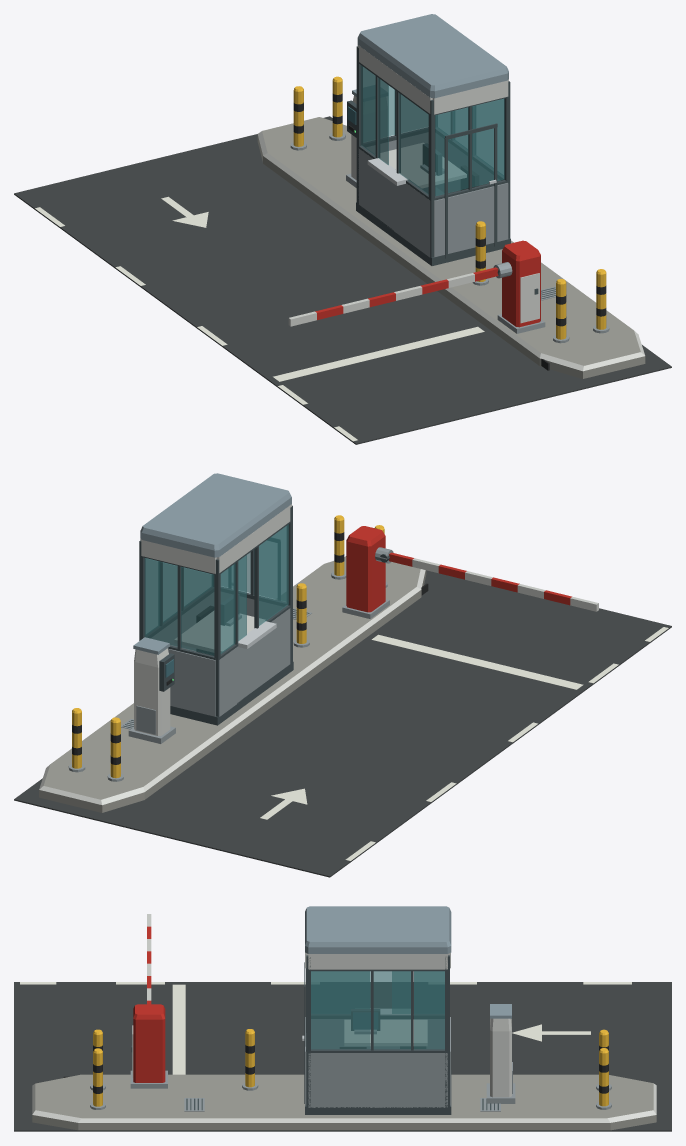
File: sg-checkpoint-lane.glb
The picture shows the model from 3 angles, top to bottom: view 1: azimuth 30°, elevation 25°; view 2: azimuth 150°, elevation 25°; view 3: azimuth 270°, elevation 25°; orthographic projection. The views are drawn at different scales.
Parts seen in each view (by area): view 1: lane_deck, booth_shell, booth_island, booth_glazing, booth_frames, bollards, boom_housing, road_markings, boom_arm, booth_counter, inspection_kiosk; view 2: lane_deck, booth_shell, booth_island, booth_glazing, booth_frames, inspection_kiosk, boom_housing, bollards, road_markings, booth_counter, boom_arm; view 3: lane_deck, booth_island, booth_shell, booth_glazing, booth_frames, boom_housing, booth_counter, bollards, inspection_kiosk, road_markings, boom_arm.
Boxes of the visible parts, x1,y1,x2,y2 form: lane_deck: [14, 116, 671, 444]; booth_shell: [356, 14, 510, 265]; booth_island: [257, 117, 645, 378]; booth_glazing: [361, 65, 504, 195]; booth_frames: [356, 46, 510, 258]; bollards: [290, 76, 609, 343]; boom_housing: [493, 240, 545, 333]; road_markings: [35, 196, 484, 441]; boom_arm: [288, 267, 498, 326]; booth_counter: [380, 143, 479, 190]; inspection_kiosk: [346, 89, 385, 187]; lane_deck: [14, 556, 671, 877]; booth_shell: [140, 473, 293, 725]; booth_island: [39, 557, 428, 812]; booth_glazing: [144, 524, 288, 655]; booth_frames: [139, 505, 292, 717]; inspection_kiosk: [128, 637, 175, 743]; boom_housing: [342, 526, 393, 618]; bollards: [68, 515, 387, 781]; road_markings: [260, 627, 668, 860]; booth_counter: [174, 594, 264, 655]; boom_arm: [389, 552, 598, 611]; lane_deck: [14, 982, 671, 1131]; booth_island: [32, 1074, 656, 1130]; booth_shell: [305, 906, 451, 1114]; booth_glazing: [311, 971, 444, 1049]; booth_frames: [302, 955, 449, 1107]; boom_housing: [130, 1004, 167, 1088]; booth_counter: [340, 1009, 427, 1048]; bollards: [90, 1029, 611, 1109]; inspection_kiosk: [486, 1004, 515, 1103]; road_markings: [20, 982, 631, 1074]; boom_arm: [147, 914, 151, 1004].
Size of the model in its own units: 4.8 by 2.78 by 9.
